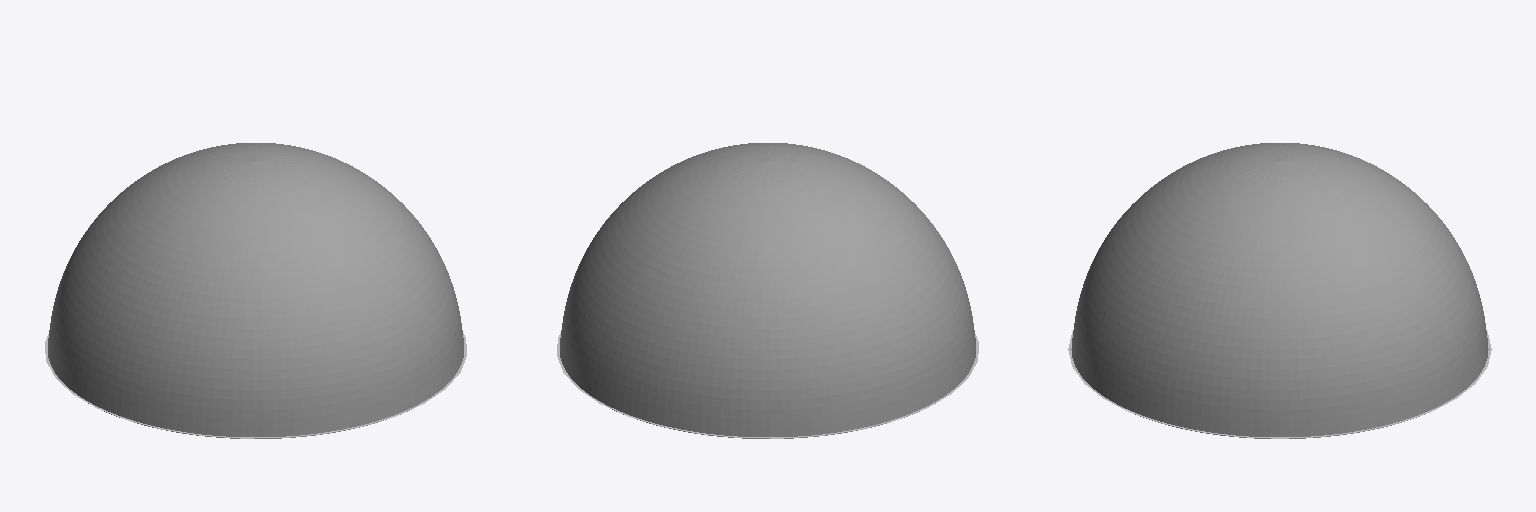
File: Sky.obj
The picture shows the model from 3 angles: view 1: azimuth 30°, elevation 25°; view 2: azimuth 150°, elevation 25°; view 3: azimuth 270°, elevation 25°; orthographic projection.
Visible parts, largest first — view 1: Sphere, Circle; view 2: Sphere, Circle; view 3: Sphere, Circle.
Part boxes in pixels (x1,y1,x2,y2): Sphere: (48, 143, 463, 438); Circle: (45, 333, 466, 438); Sphere: (560, 143, 975, 438); Circle: (557, 333, 978, 438); Sphere: (1071, 143, 1488, 438); Circle: (1068, 332, 1491, 438).
Bounding box in the file's own units: 218 × 108 × 218.